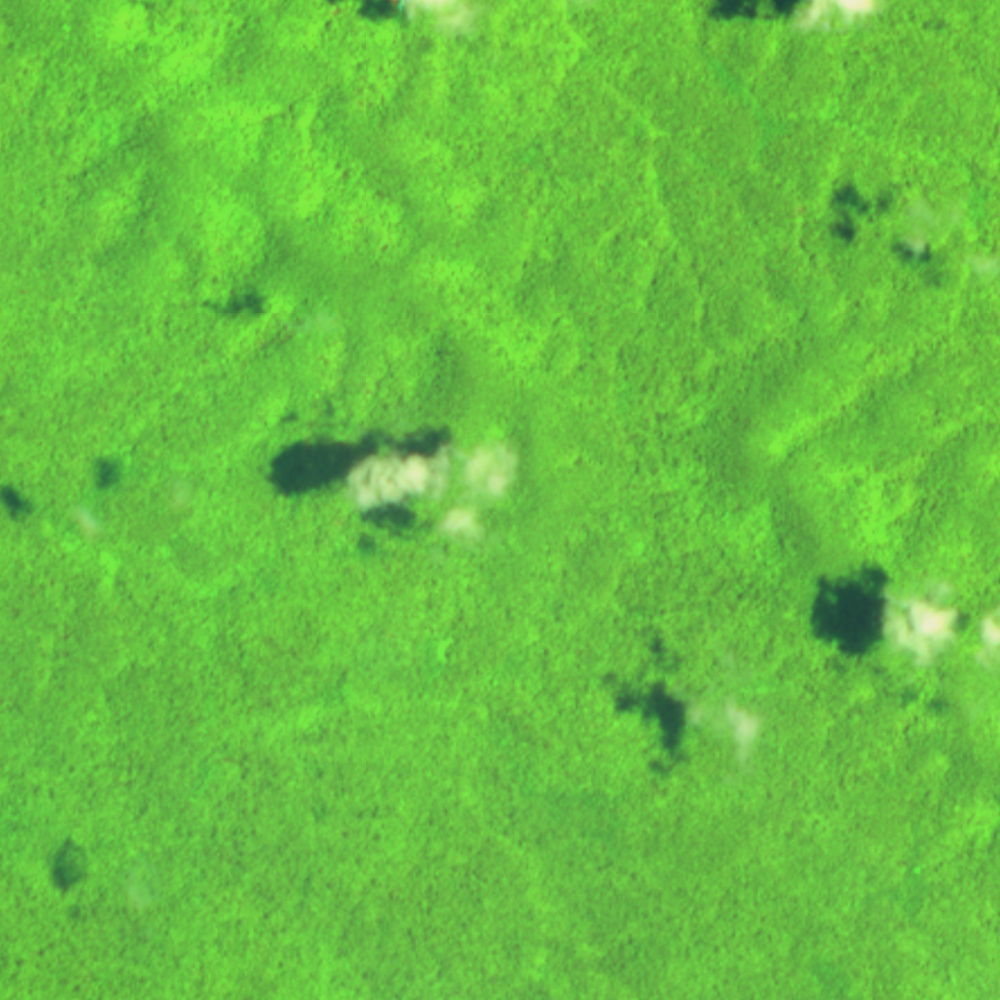illegal: (254, 300, 313, 358)
